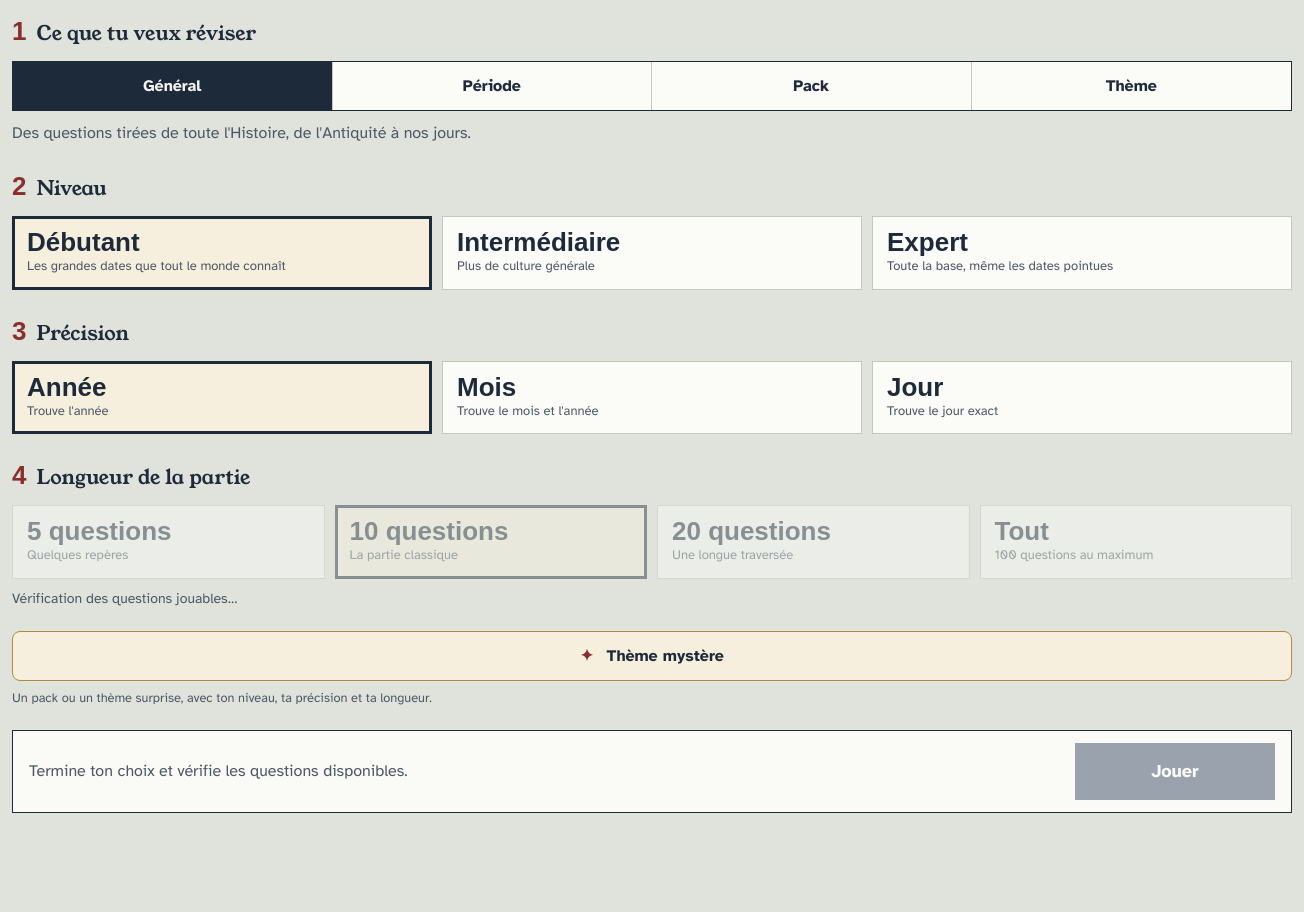
ouvre la vue dédiée, désactive le vide, choisit l'enfant et revient avec focus
Click the button "Pack". click: x=812, y=86
box: x1=652 y1=62 x2=972 y2=110
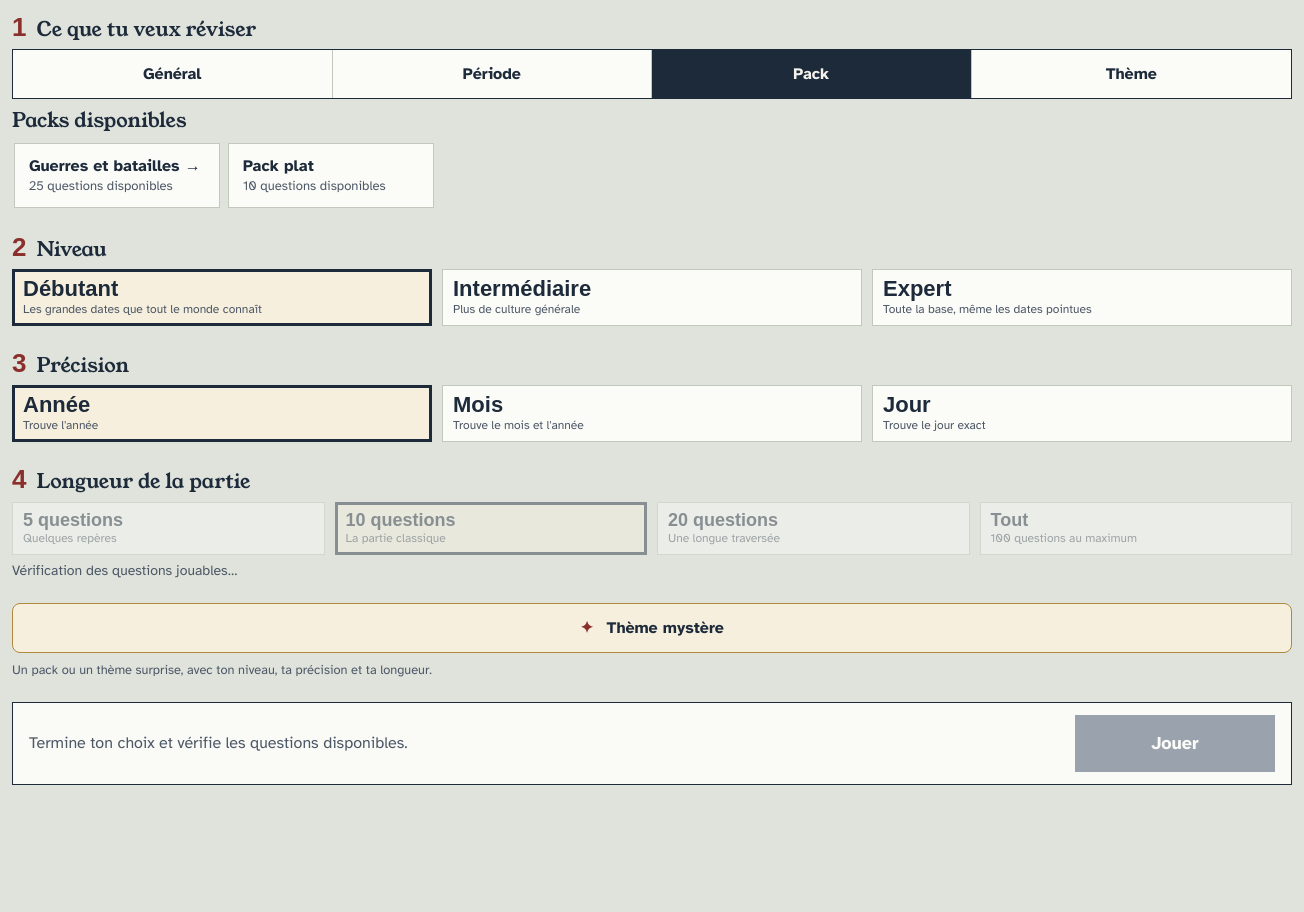
Click the button "Guerres et batailles → 25 questions disponibles". click: x=117, y=176
box: x1=14 y1=143 x2=220 y2=208
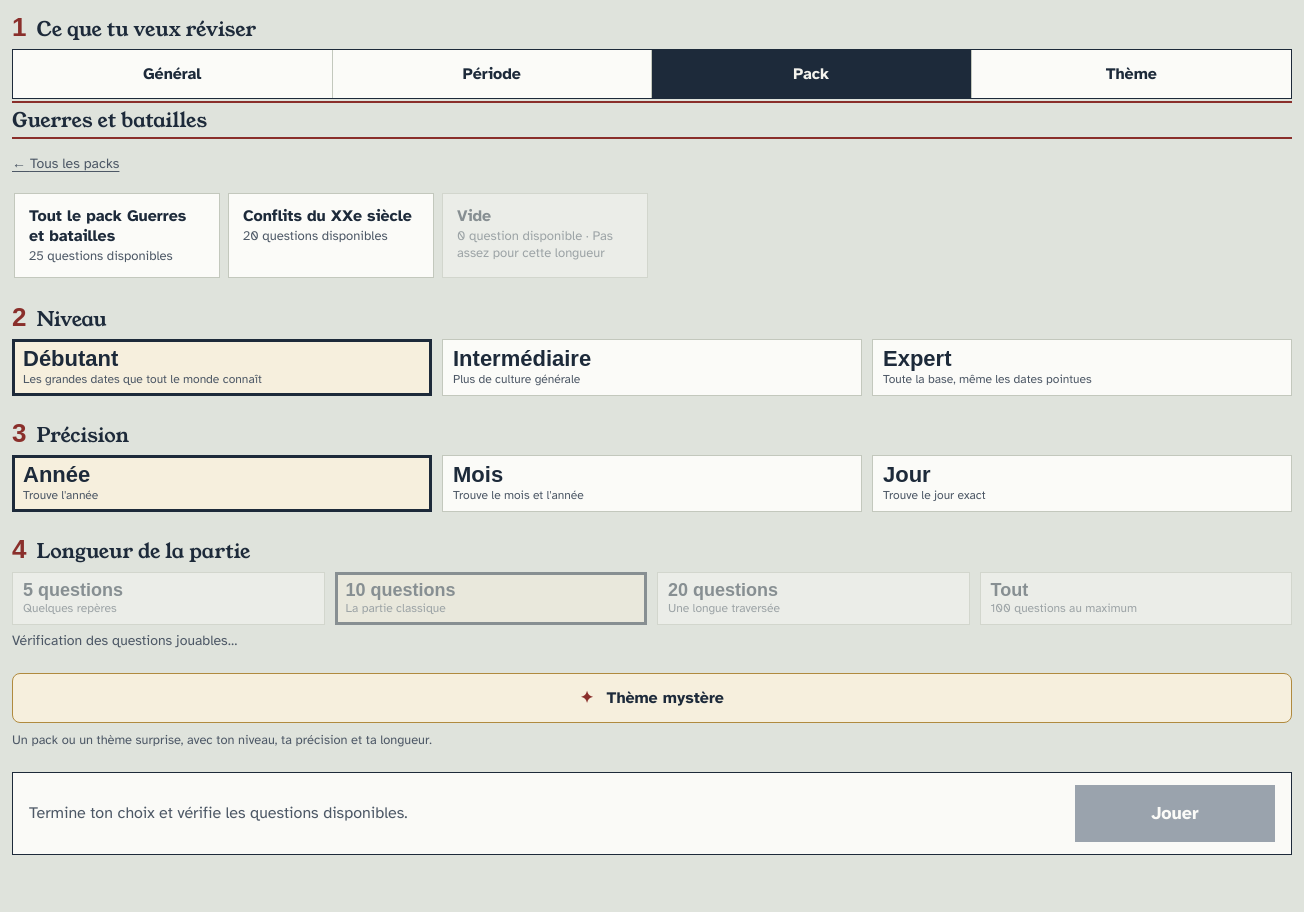
Result: the button "Vide 0 question disponible · Pas assez pour cette longueur" is disabled at x1=442 y1=193 x2=648 y2=278
Click the button "Tout le pack Guerres et batailles 25 questions disponibles". click: x=117, y=236
box: x1=14 y1=193 x2=220 y2=278
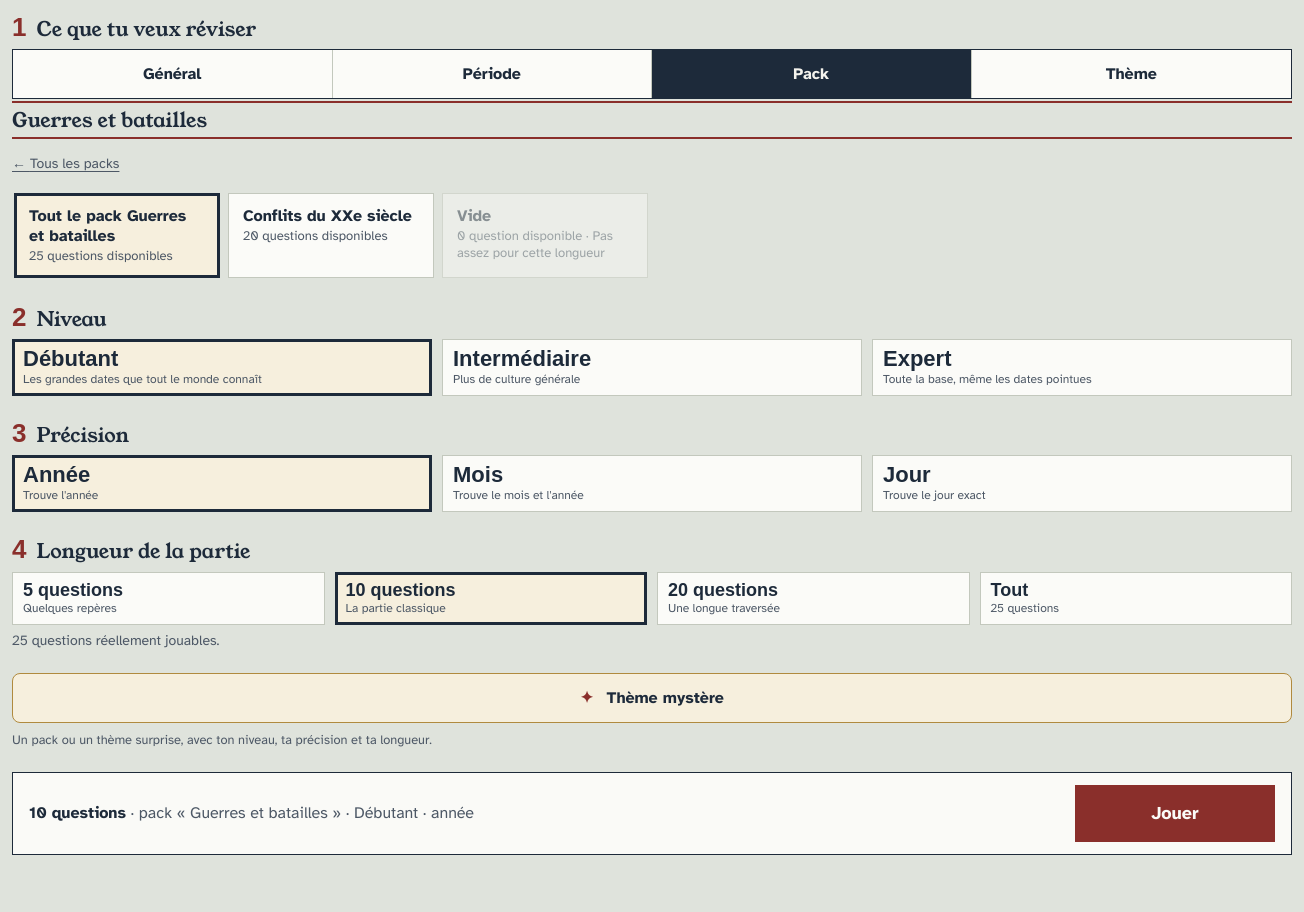
Click the button "Conflits du XXe siècle 20 questions disponibles". click: x=331, y=236
box: x1=228 y1=193 x2=434 y2=278
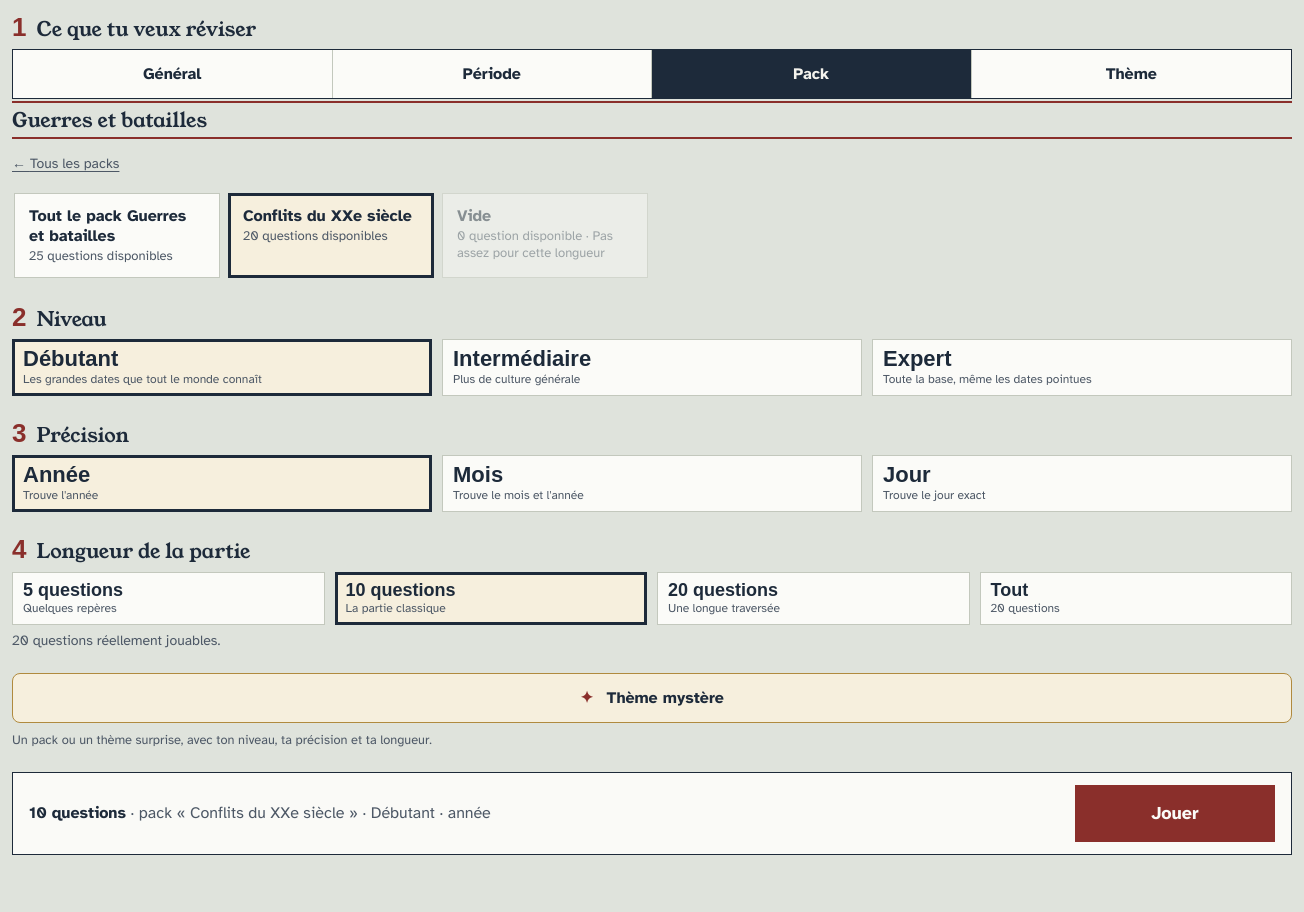
Click the button "← Tous les packs". click: x=66, y=163
box: x1=12 y1=141 x2=119 y2=185
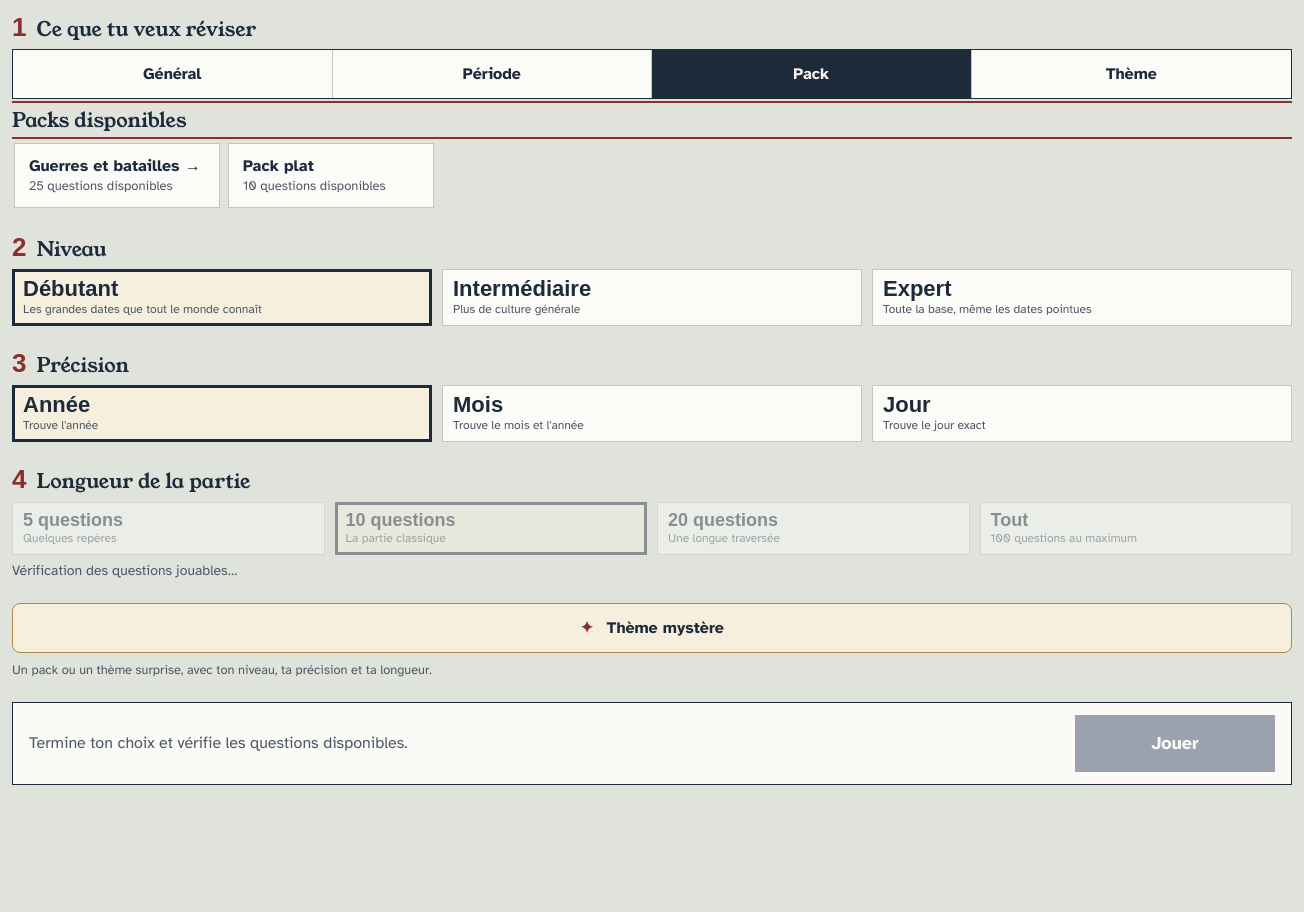
Result: the button "Conflits du XXe" is gone
